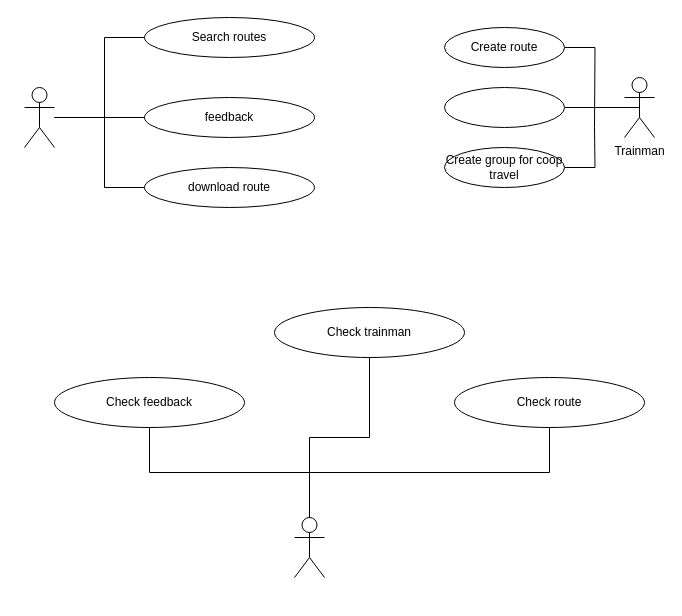
Image size: 682x616. Some labels were removed from this diagram. Each missing label, with the centre of its shape:
"Add point" belongs at pixel 504 107.
"Moderator" belongs at pixel 309 547.
"Traveler" belongs at pixel 39 117.
